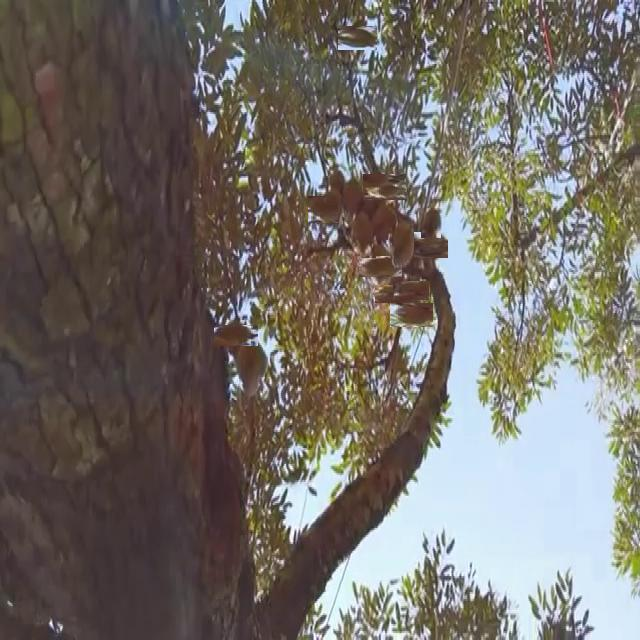durian: (234, 334, 270, 400), (347, 210, 376, 258), (391, 214, 416, 268), (338, 175, 364, 225), (312, 192, 346, 228), (395, 298, 429, 332), (368, 170, 402, 204), (358, 180, 385, 222), (220, 319, 253, 352), (364, 250, 397, 282), (342, 22, 374, 54), (415, 230, 446, 261), (324, 164, 346, 203), (380, 280, 410, 308), (396, 277, 424, 305), (421, 204, 441, 238)
